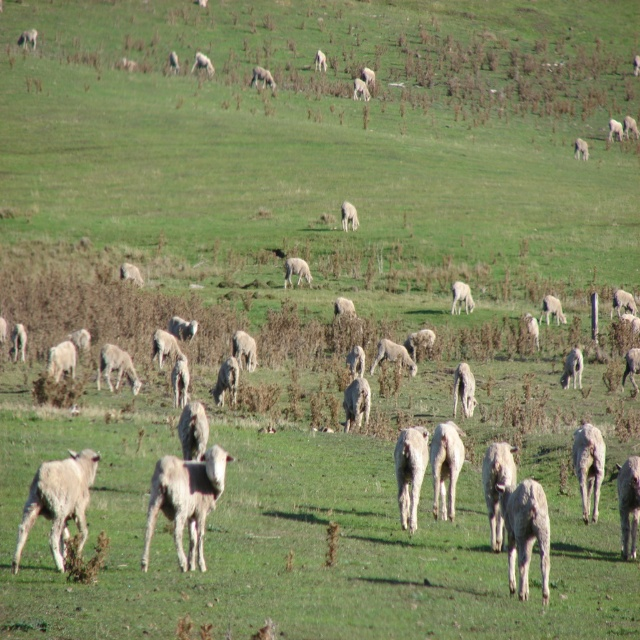Sheep: (0, 200, 640, 607), (190, 51, 216, 80), (250, 67, 276, 89), (16, 28, 38, 49), (354, 79, 372, 100), (624, 116, 637, 140), (361, 68, 375, 89), (315, 50, 328, 72), (575, 141, 589, 161), (610, 120, 623, 140), (170, 50, 179, 69), (634, 55, 640, 75)
